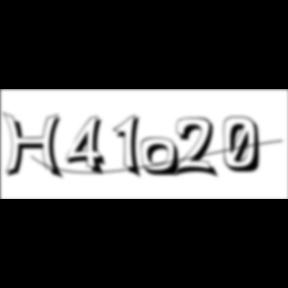0: (222, 115, 268, 174)
1: (112, 114, 148, 182)
2: (172, 117, 222, 181)
4: (66, 115, 112, 179)
H: (2, 112, 68, 182)
o: (141, 137, 183, 179)
